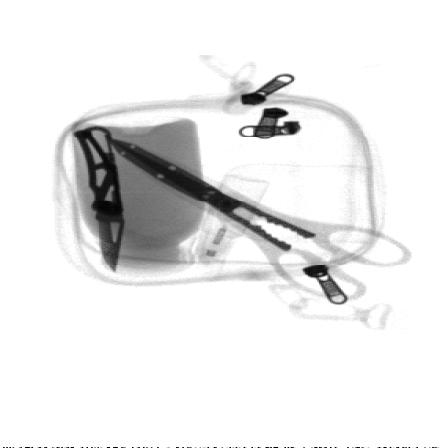Knife: (74, 125, 124, 274)
Scissors: (111, 138, 413, 301)
